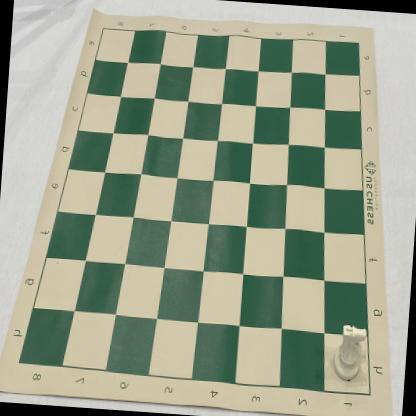white-knight: (330, 324, 368, 382)
